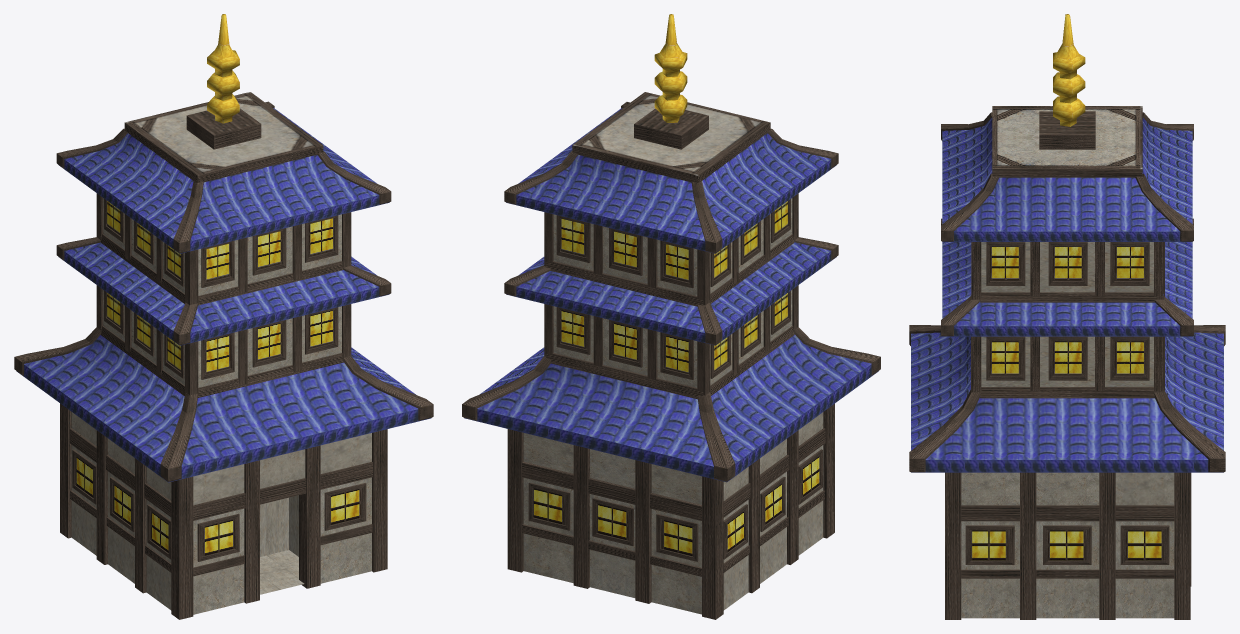
The model's file is casa-oriental-02-b.fbx.
The picture shows the model from 3 angles, left to right: view 1: azimuth 30°, elevation 25°; view 2: azimuth 150°, elevation 25°; view 3: azimuth 270°, elevation 25°; orthographic projection. The views are drawn at different scales.
Visible parts, largest first — view 1: Cube.000, Cube.002, Cube.001; view 2: Cube.000, Cube.002; view 3: Cube.000, Cube.002.
Part boxes in pixels (box(x1,y1,x2,y2)): Cube.000: box(14, 14, 433, 619); Cube.002: box(75, 200, 361, 556); Cube.001: box(260, 495, 304, 594); Cube.000: box(462, 14, 880, 619); Cube.002: box(533, 201, 819, 556); Cube.000: box(909, 14, 1225, 619); Cube.002: box(970, 246, 1164, 560).
Size of the model in its own units: 5.37 by 10.37 by 5.37.
